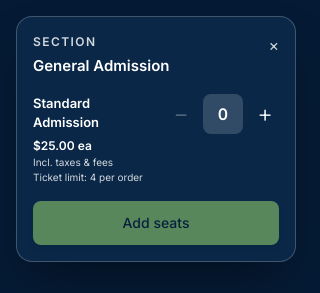
SeatmapTooltip GA stepper › locks the GA stepper to the exact offer limit
Expected: the text named "ticket quantity" reads "0", [218,104,228,124]
Expected: the button named "decrease quantity" is disabled, [167,94,195,134]
Step 1. Click the button named "increase quantity" → point(265, 114), box [251,94,279,134]
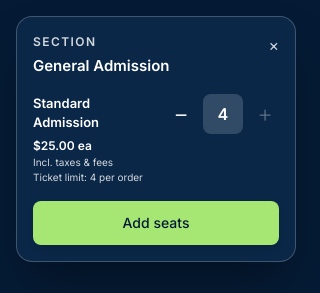
Expected: the button named "decrease quantity" is enabled, [167,94,195,134]
Result: the text named "ticket quantity" reads "4" at [218,104,228,124]
Result: the button named "increase quantity" is disabled at [251,94,279,134]
